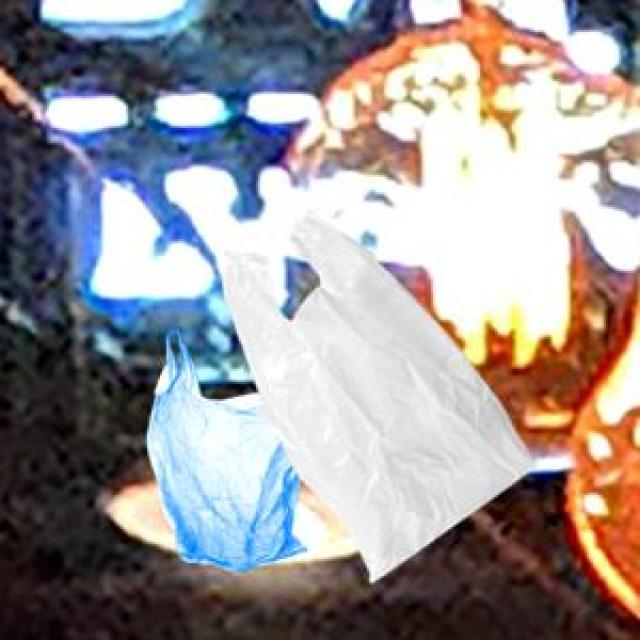plastic: (118, 177, 560, 602)
